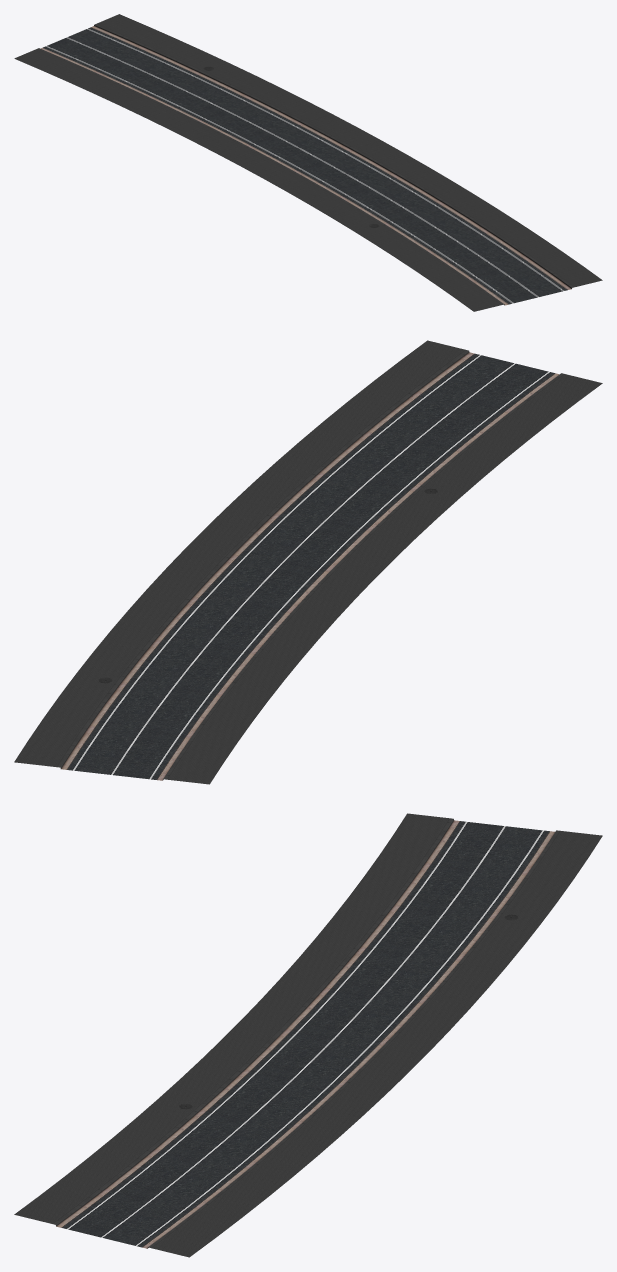
The model's file is or_city_road_cont_marking_15left.fbx.
3 renders of one model, top to bottom at view 1: azimuth 30°, elevation 25°; view 2: azimuth 150°, elevation 25°; view 3: azimuth 330°, elevation 25°, orthographic. The views are drawn at different scales.
Visible parts, largest first — view 1: obj0; view 2: obj0; view 3: obj0.
Part boxes in pixels (x1,y1,x2,y2): obj0: (14,14,602,311); obj0: (14,340,602,784); obj0: (14,813,602,1257).
Size of the model in its own units: 48.55 by 0.254 by 154.
